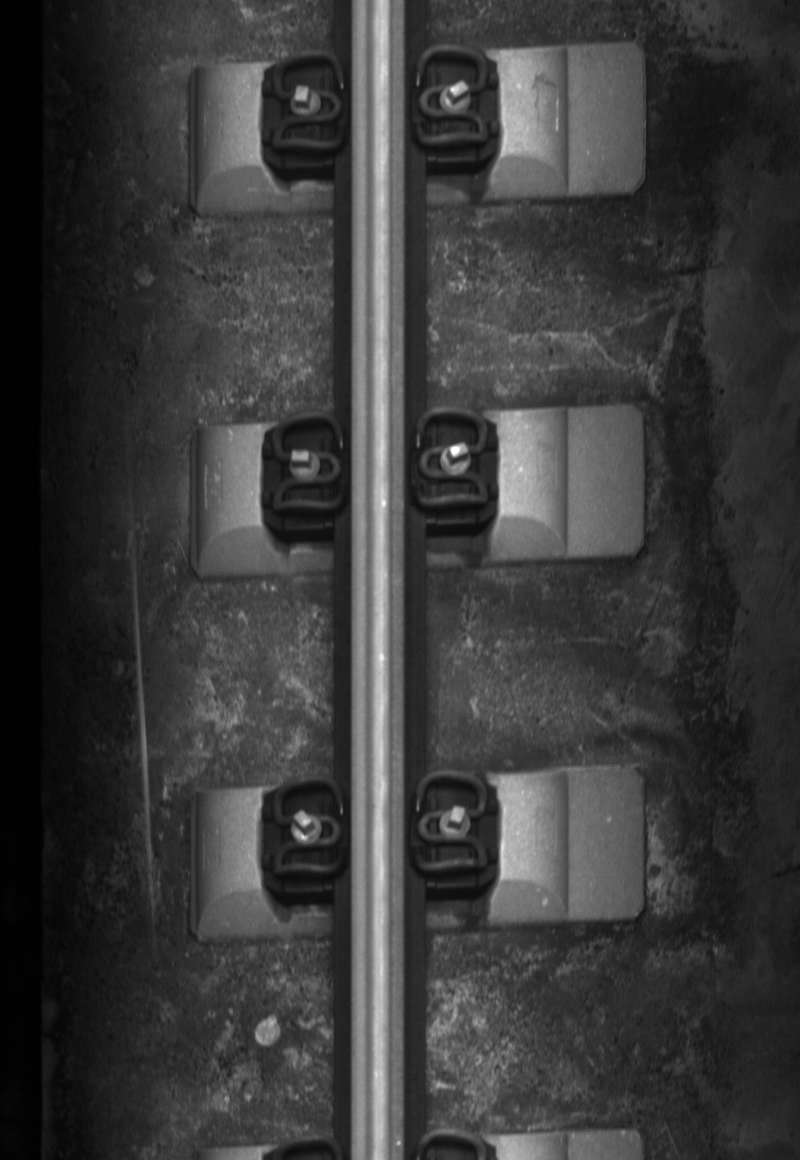l_faster: (261, 408, 350, 526), (263, 771, 347, 887), (262, 47, 350, 157)
r_faster: (407, 762, 492, 881), (409, 399, 491, 520), (409, 37, 492, 155)
